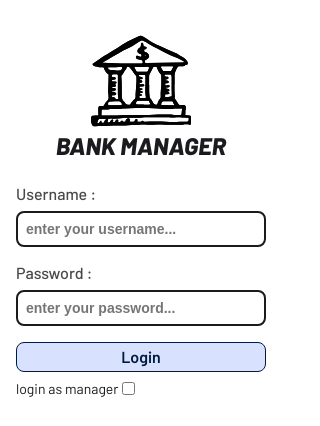
Test: login route --> pressing login button... › inputs are not empty ... › if user and password is NOT correct
Type "bela bela" into the password field with test id "login-password-input" at x=141, y=308, box [16,290,266,326]
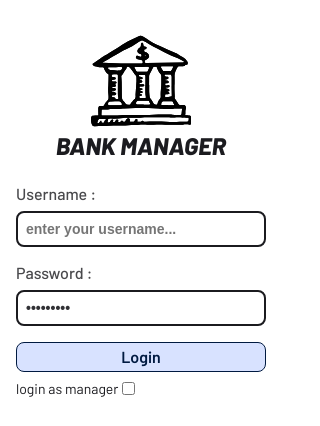
Type "bela bela" into the field with test id "login-username-input" at x=141, y=229, box [16,211,266,247]
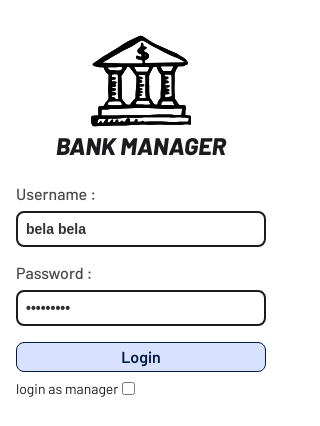
Click the button with test id "login-button" at x=141, y=357, box [16,342,266,372]
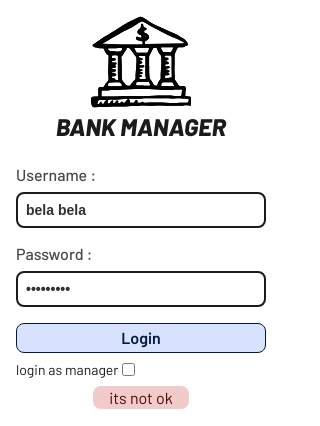
Expected: the text "its not ok" is shown, [93,386,189,408]
